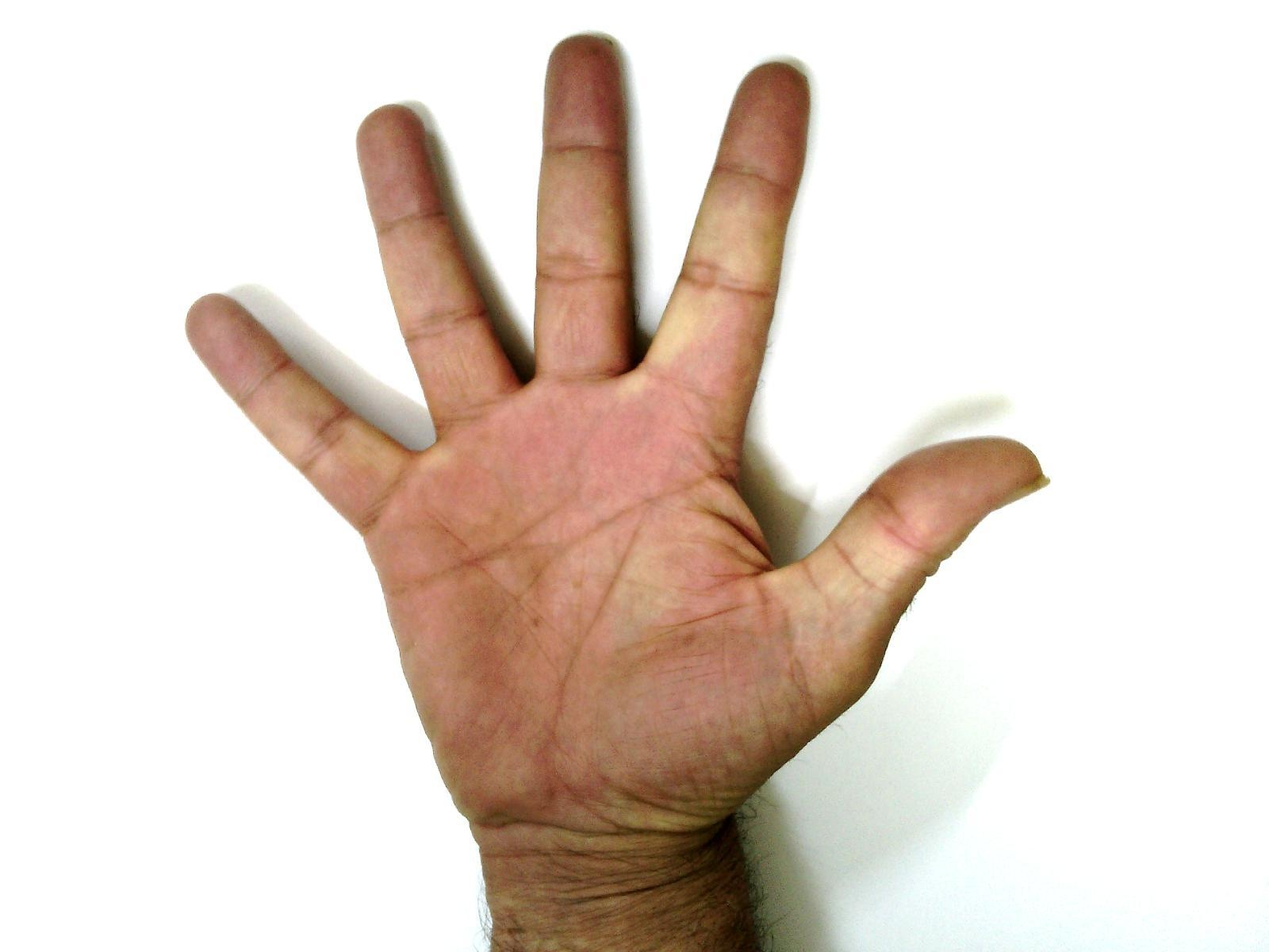open_palm: (182, 32, 1052, 850)
